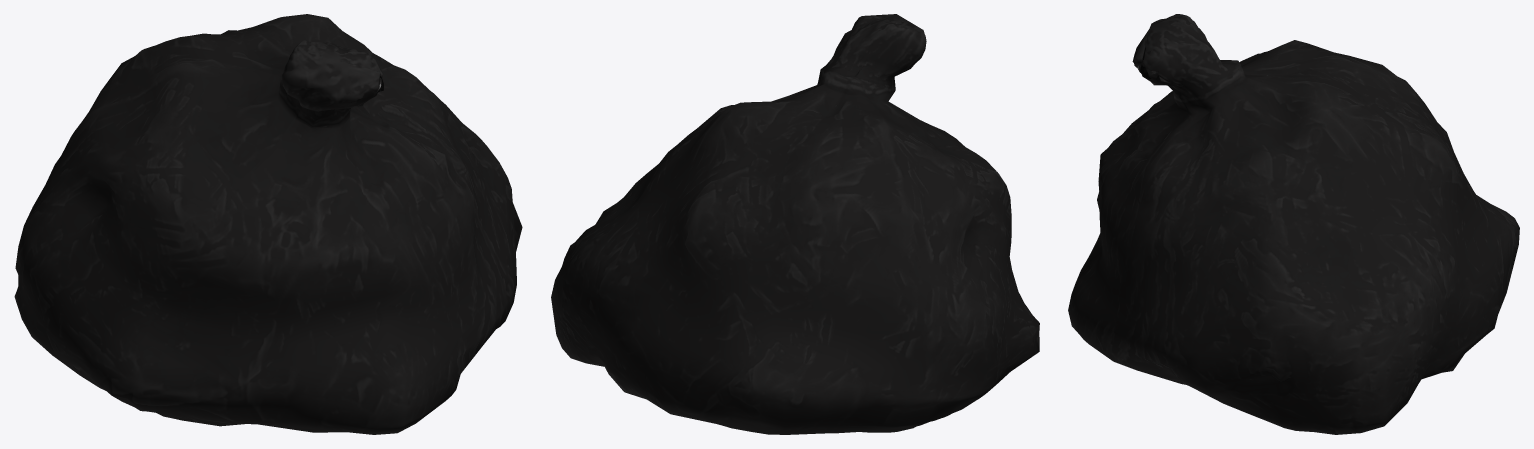
The model's file is garbage_bag.glb.
The picture shows the model from 3 angles, left to right: view 1: azimuth 30°, elevation 25°; view 2: azimuth 150°, elevation 25°; view 3: azimuth 270°, elevation 25°; orthographic projection. The views are drawn at different scales.
Visible parts, largest first — view 1: Garbage_Bag2; view 2: Garbage_Bag2; view 3: Garbage_Bag2.
Part boxes in pixels (left/top/right/bottom): Garbage_Bag2: left=14, top=14, right=522, bottom=434; Garbage_Bag2: left=551, top=14, right=1039, bottom=434; Garbage_Bag2: left=1068, top=14, right=1519, bottom=434.
Size of the model in its own units: 215 by 168 by 206.
1 material, 1 textured.
